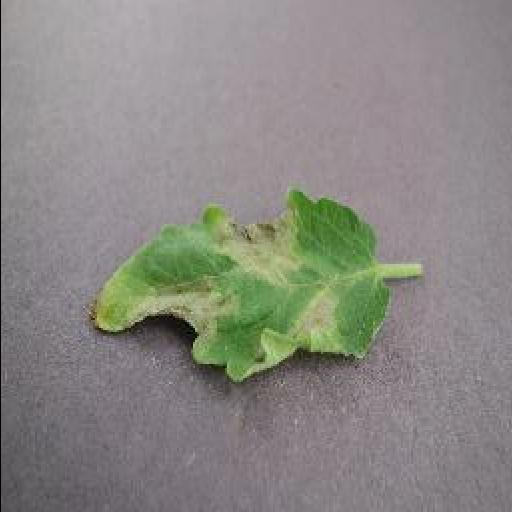disease_tomato: (84, 190, 390, 384)
